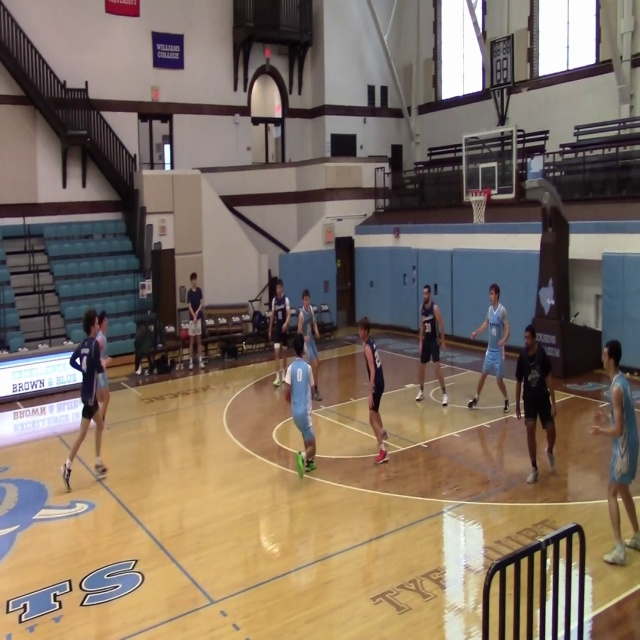Basketball: (282, 381, 291, 402)
